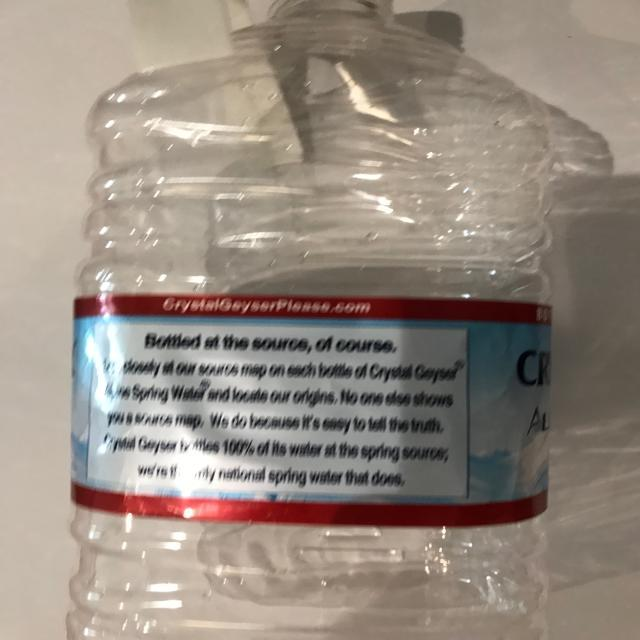plastic: (65, 1, 613, 640)
